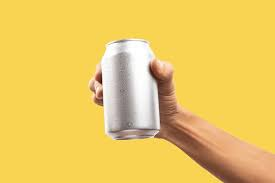can: (102, 37, 164, 143)
